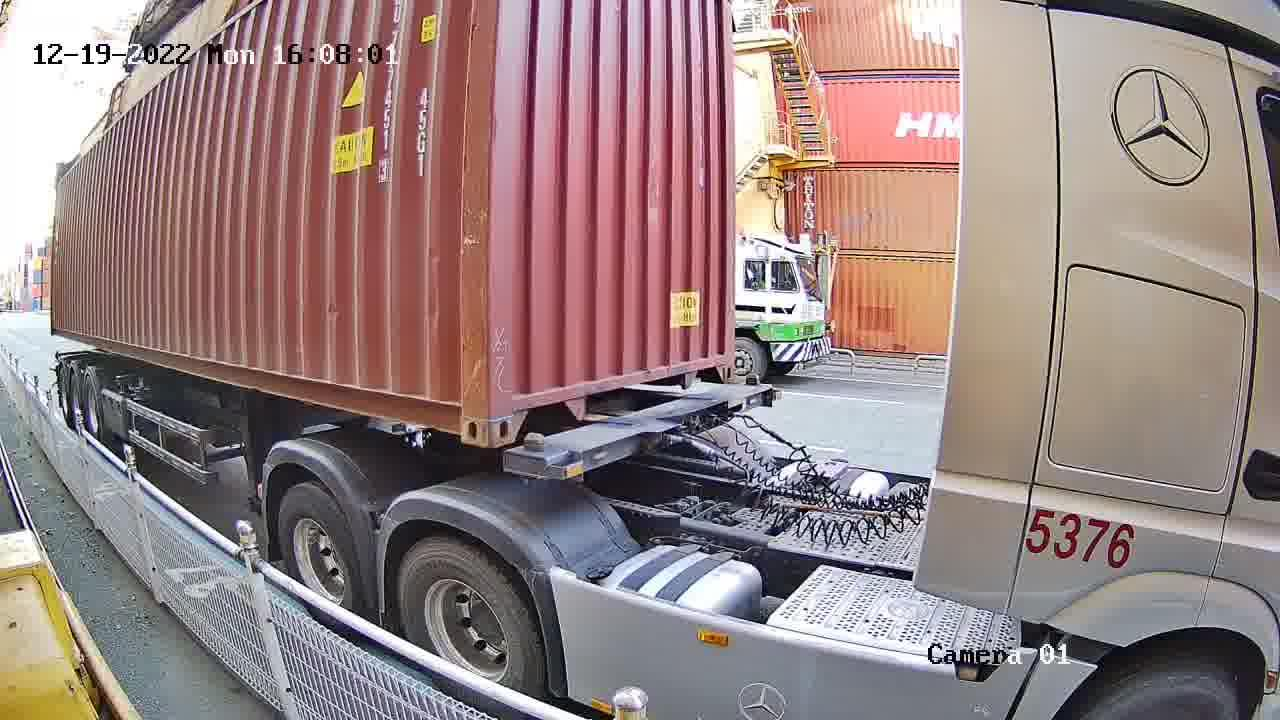Chassis: (505, 384, 770, 478)
Cone: (518, 434, 547, 488), (741, 371, 764, 385)
Hole_L: (488, 371, 556, 450)
Hole_R: (429, 375, 489, 450), (700, 326, 736, 385)
Tire: (397, 540, 543, 693), (275, 485, 363, 613)
